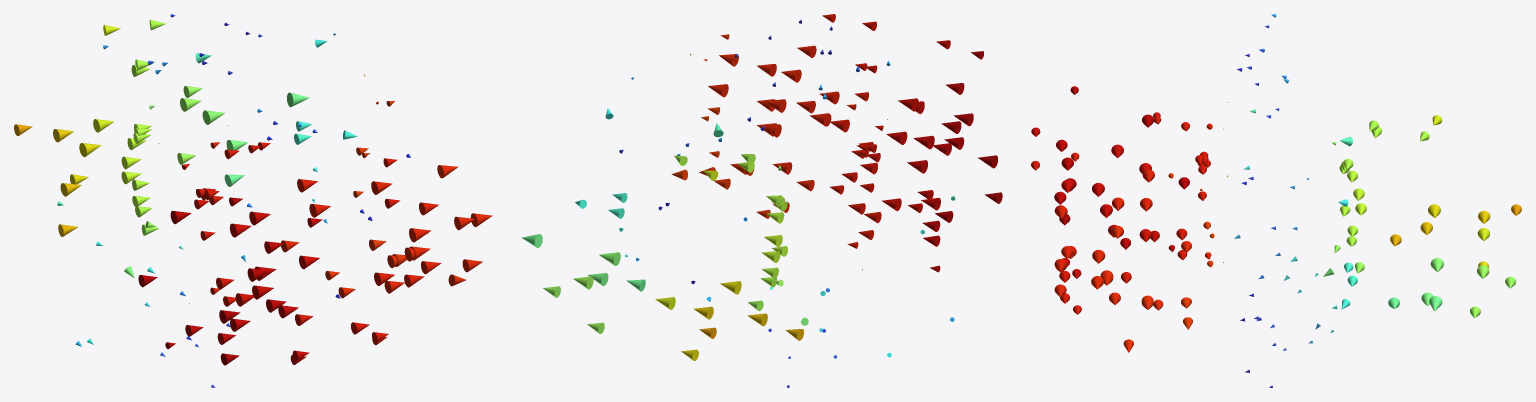
Rendered from LineasCorrienteH2-O2_mh2-5.58_V-1.glb.
The picture shows the model from 3 angles, left to right: view 1: azimuth 30°, elevation 25°; view 2: azimuth 150°, elevation 25°; view 3: azimuth 270°, elevation 25°; orthographic projection. The views are drawn at different scales.
Bounding box in the file's own units: 0.000913 × 0.000952 × 0.00123.
Materials: 2 (2 with a texture image).
